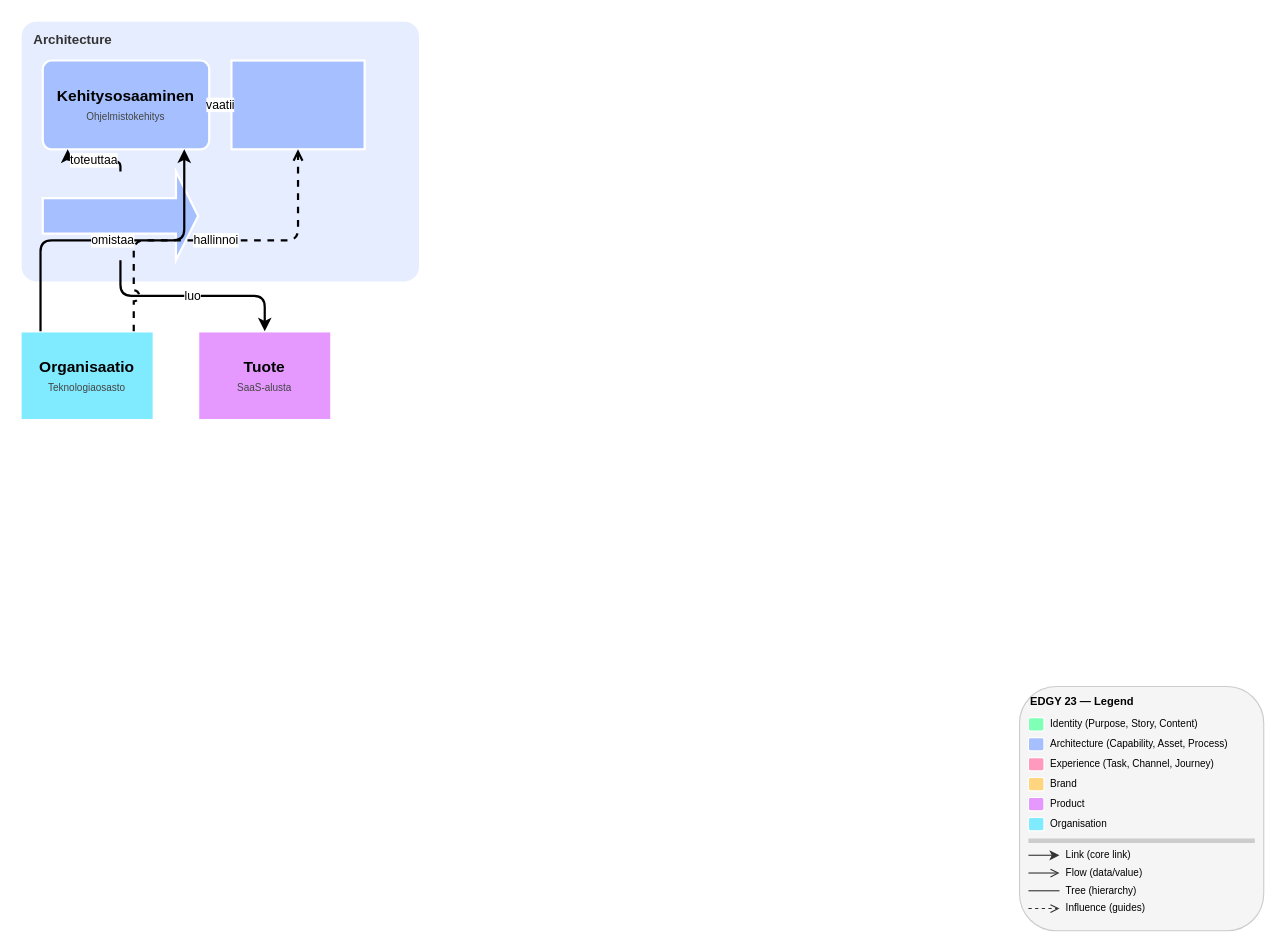
The diagram is 1283 pixels wide and 950 high, and some of its shapes have lost their labels. Each missing label, with the centre of its shape:
Prosessit Ketterä kehitys: the point at 120,215
Resurssit Pilvi-infrastruktuuri: the point at 297,104
